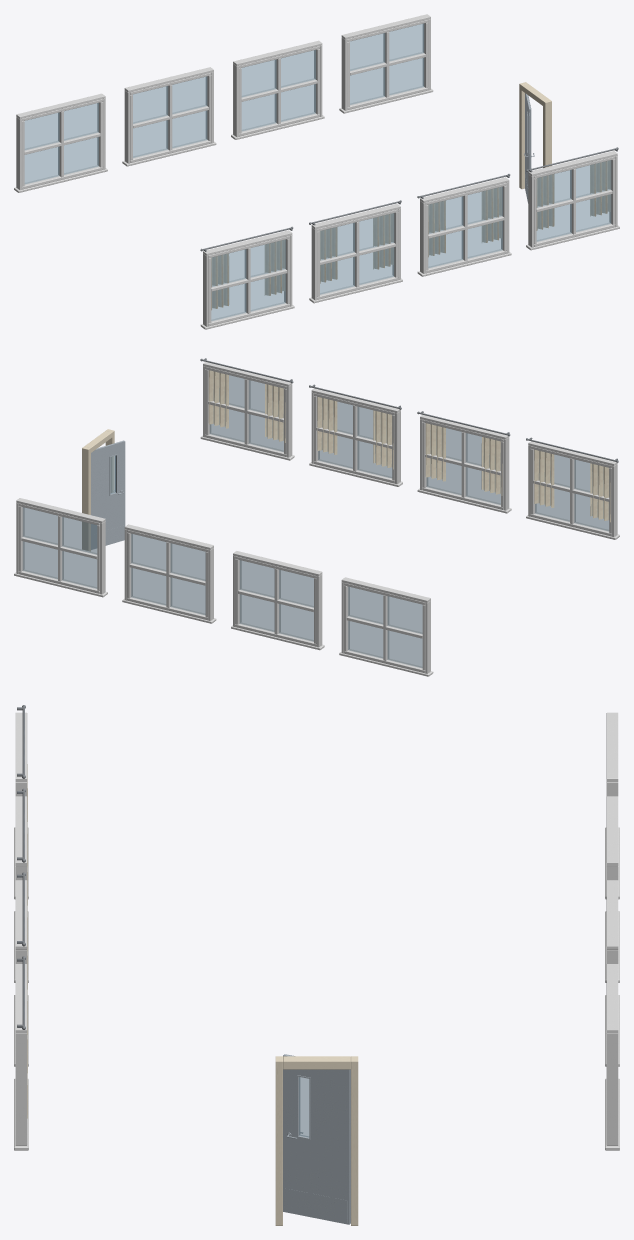
Rendered from cl-windows.glb.
The picture shows the model from 3 angles, top to bottom: view 1: azimuth 30°, elevation 25°; view 2: azimuth 150°, elevation 25°; view 3: azimuth 270°, elevation 25°; orthographic projection. The views are drawn at different scales.
Visible parts, largest first — view 1: cl-windows_glass_n2, cl-windows_glass_n1, cl-windows_glass_n3, cl-windows_glass_s1, cl-windows_glass_s3, cl-windows_glass_n4, cl-windows_glass_s4, cl-windows_glass_s2, cl-windows_curtain_s1_2, cl-windows_curtain_s2_2, cl-windows_curtain_s4_2, cl-windows_curtain_s3_2 (+37 smaller); view 2: cl-windows_glass_n1, cl-windows_glass_n3, cl-windows_glass_n4, cl-windows_glass_n2, cl-windows_door, cl-windows_glass_s3, cl-windows_glass_s1, cl-windows_glass_s2, cl-windows_glass_s4, cl-windows_curtain_s2_2, cl-windows_curtain_s4_2, cl-windows_curtain_s1_2 (+30 smaller); view 3: cl-windows_door, cl-windows_jamb_right_s4, cl-windows_jamb_right_n4, cl-windows_door_jamb_left, cl-windows_door_jamb_right, cl-windows_door_jamb_top, cl-windows_jamb_top_n2, cl-windows_jamb_top_n1, cl-windows_jamb_top_n3, cl-windows_jamb_top_n4, cl-windows_jamb_top_s2, cl-windows_jamb_top_s1 (+2 smaller).
Part boxes in pixels (bbox=[...]): cl-windows_glass_n2: bbox=[133, 76, 207, 157]; cl-windows_glass_n1: bbox=[24, 103, 98, 184]; cl-windows_glass_n3: bbox=[241, 50, 315, 131]; cl-windows_glass_s1: bbox=[211, 240, 285, 320]; cl-windows_glass_s3: bbox=[428, 187, 502, 267]; cl-windows_glass_n4: bbox=[350, 23, 423, 104]; cl-windows_glass_s4: bbox=[536, 160, 610, 241]; cl-windows_glass_s2: bbox=[320, 213, 393, 294]; cl-windows_curtain_s1_2: bbox=[264, 240, 285, 295]; cl-windows_curtain_s2_2: bbox=[373, 213, 393, 269]; cl-windows_curtain_s4_2: bbox=[590, 160, 610, 216]; cl-windows_curtain_s3_2: bbox=[481, 187, 501, 242]; cl-windows_glass_n1: bbox=[348, 586, 422, 667]; cl-windows_glass_n3: bbox=[131, 534, 205, 614]; cl-windows_glass_n4: bbox=[23, 507, 97, 588]; cl-windows_glass_n2: bbox=[240, 560, 313, 641]; cl-windows_door: bbox=[91, 440, 125, 549]; cl-windows_glass_s3: bbox=[318, 398, 392, 478]; cl-windows_glass_s1: bbox=[535, 455, 609, 531]; cl-windows_glass_s2: bbox=[426, 428, 500, 504]; cl-windows_glass_s4: bbox=[210, 375, 283, 451]; cl-windows_curtain_s2_2: bbox=[425, 423, 445, 481]; cl-windows_curtain_s4_2: bbox=[208, 370, 228, 428]; cl-windows_curtain_s1_2: bbox=[534, 449, 554, 507]; cl-windows_door: bbox=[283, 1054, 350, 1224]; cl-windows_jamb_right_s4: bbox=[15, 1033, 27, 1145]; cl-windows_jamb_right_n4: bbox=[606, 1033, 618, 1145]; cl-windows_door_jamb_left: bbox=[275, 1056, 282, 1225]; cl-windows_door_jamb_right: bbox=[351, 1056, 358, 1225]; cl-windows_door_jamb_top: bbox=[283, 1056, 350, 1069]; cl-windows_jamb_top_n2: bbox=[606, 796, 618, 866]; cl-windows_jamb_top_n1: bbox=[606, 712, 618, 782]; cl-windows_jamb_top_n3: bbox=[606, 880, 618, 949]; cl-windows_jamb_top_n4: bbox=[606, 964, 618, 1033]; cl-windows_jamb_top_s2: bbox=[15, 796, 27, 866]; cl-windows_jamb_top_s1: bbox=[15, 712, 27, 782].
Bounding box in the file's own units: 9.54 × 2.53 × 7.34.
6 materials, 5 textured.
